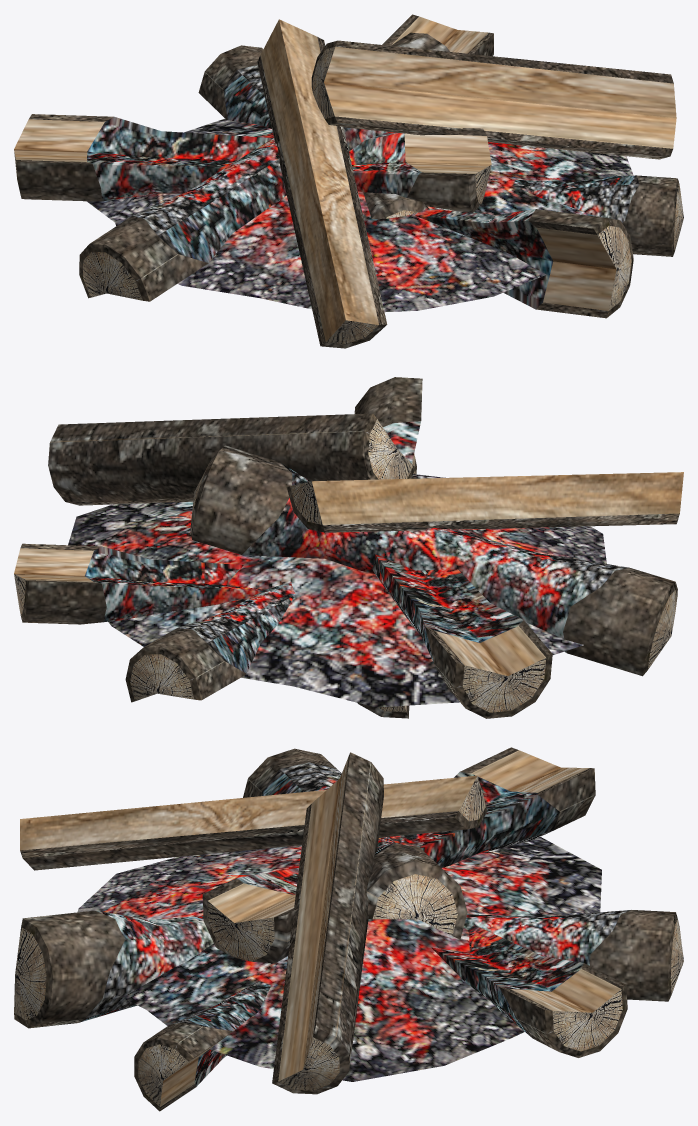
The model's file is bonfire.fbx.
3 views of the same model, one above another, from view 1: azimuth 30°, elevation 25°; view 2: azimuth 150°, elevation 25°; view 3: azimuth 270°, elevation 25° (orthographic). The views are drawn at different scales.
Parts seen in each view (by area): view 1: bonfire; view 2: bonfire; view 3: bonfire.
Boxes of the visible parts, x1=… form: bonfire: x1=14, y1=14, x2=683, y2=348; bonfire: x1=14, y1=377, x2=683, y2=718; bonfire: x1=14, y1=747, x2=683, y2=1111.
Size of the model in its own units: 130 by 51.53 by 120.
